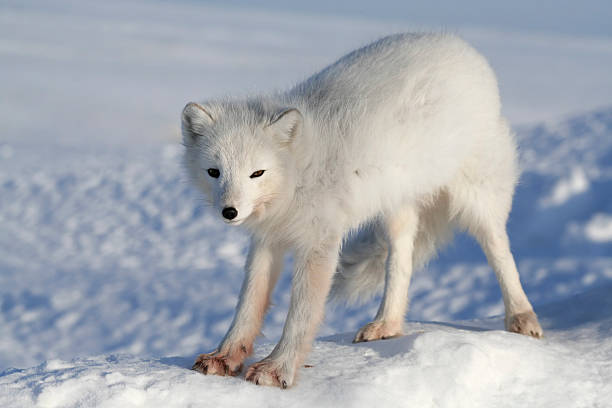arcticfox: (199, 142, 278, 233)
